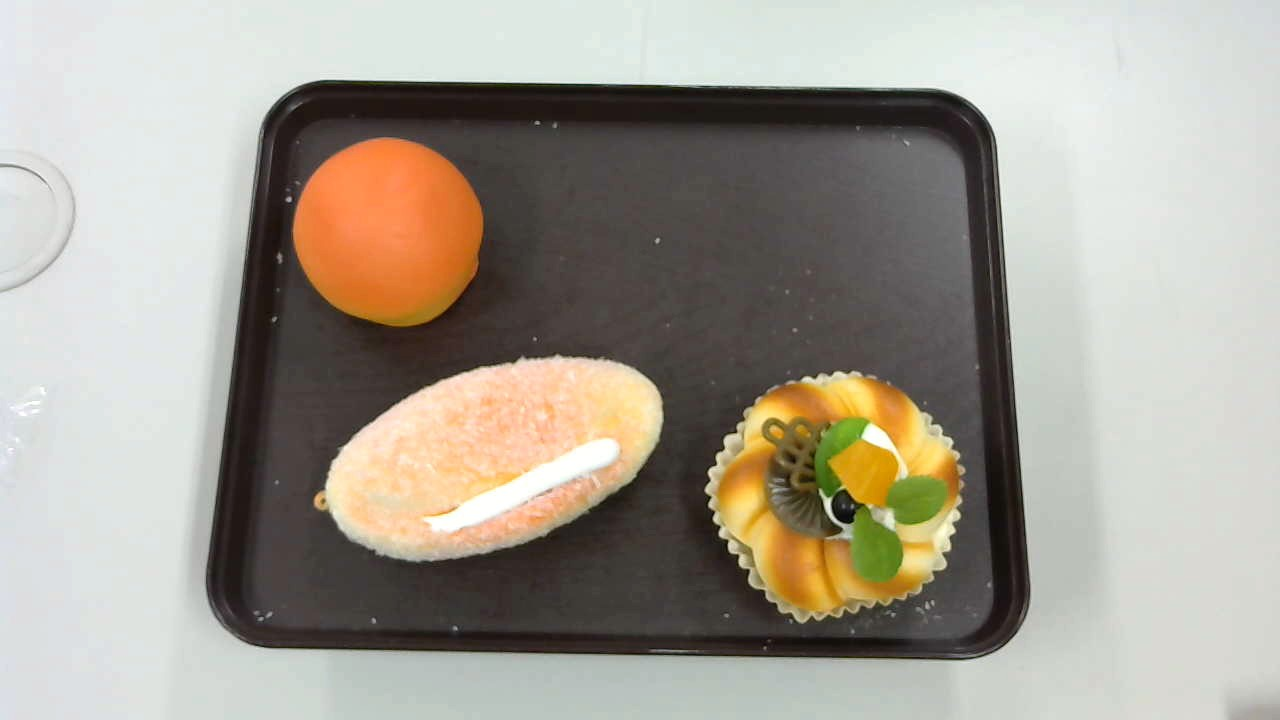bun: (292, 138, 483, 327)
coconut: (313, 355, 663, 562)
fruit tart: (705, 370, 964, 626)
